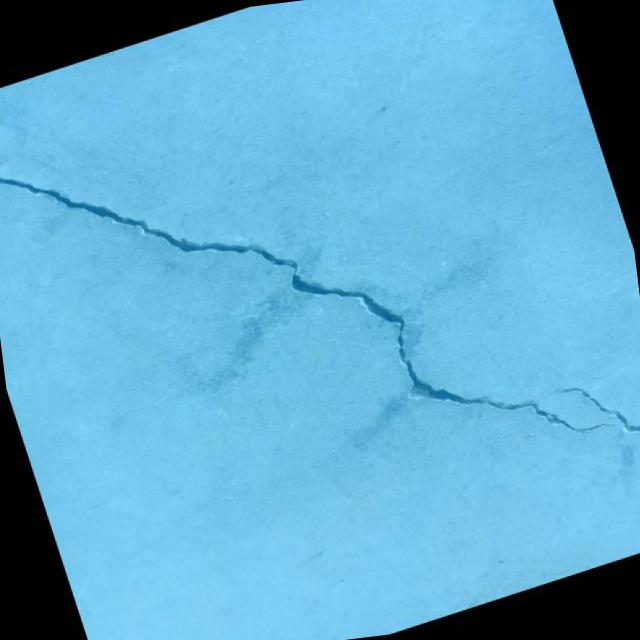crack: (0, 0, 629, 607), (545, 355, 640, 481)
